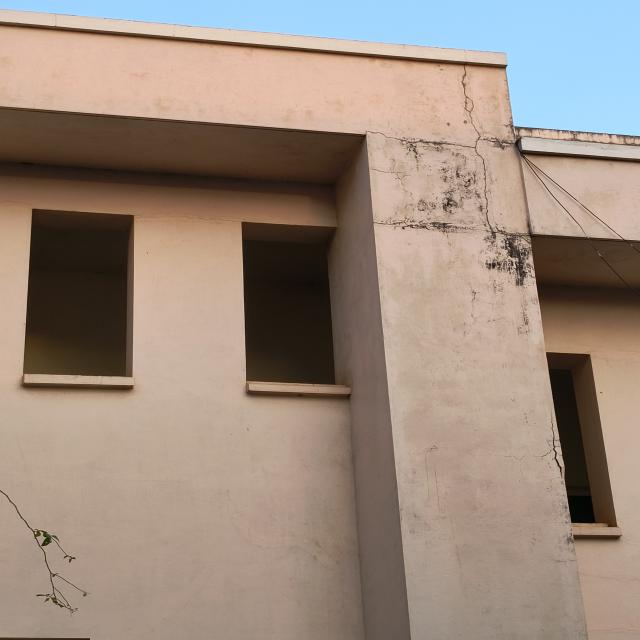crack: (362, 61, 532, 245), (533, 409, 564, 481), (134, 214, 243, 223)
stain_mould: (375, 140, 491, 232), (514, 127, 640, 145), (486, 236, 531, 285)
